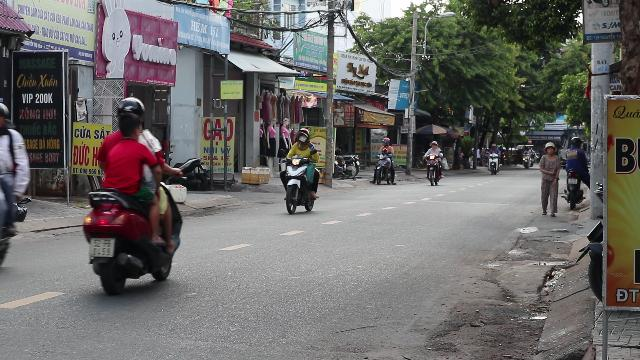helmet: (116, 97, 144, 117), (296, 127, 310, 144)
licenseplate: (89, 238, 113, 256)
motorcyclist: (79, 96, 183, 296), (278, 127, 322, 215)
nohelmet: (115, 113, 143, 141)
